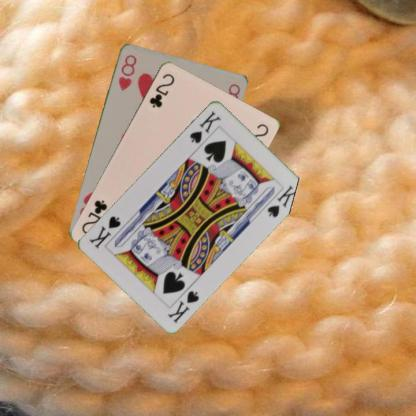2c: (146, 70, 176, 108)
8h: (115, 51, 138, 92)
Ks: (187, 107, 223, 144), (164, 288, 200, 324)
